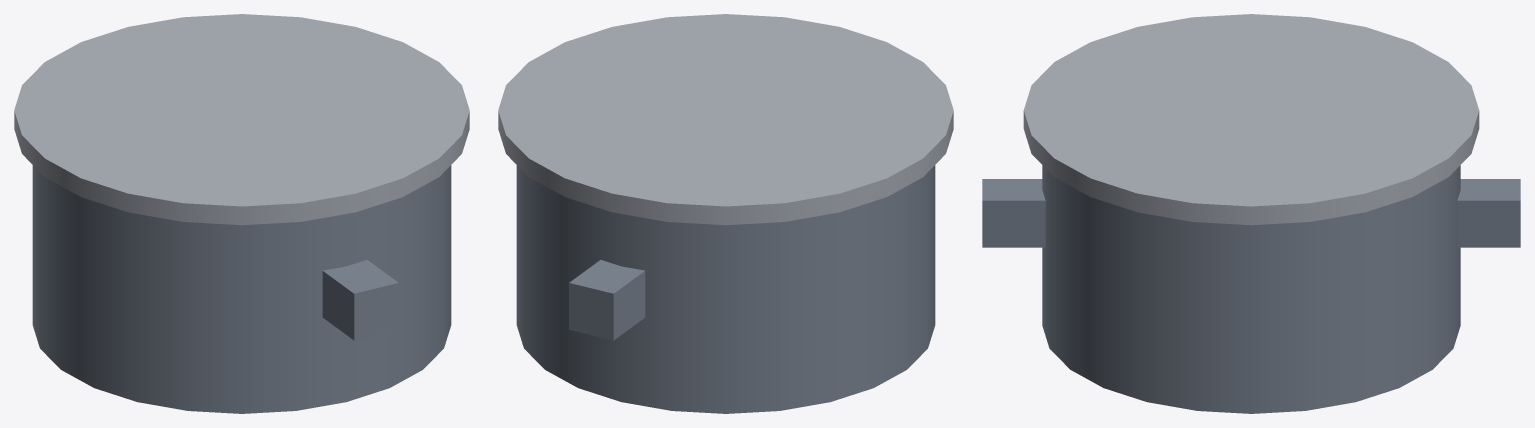
The model's file is hat_pot.glb.
The picture shows the model from 3 angles, left to right: view 1: azimuth 30°, elevation 25°; view 2: azimuth 150°, elevation 25°; view 3: azimuth 270°, elevation 25°; orthographic projection.
Visible parts, largest first — view 1: hat_pot; view 2: hat_pot; view 3: hat_pot.
Boxes of the visible parts, x1=… form: hat_pot: x1=14, y1=14, x2=469, y2=413; hat_pot: x1=498, y1=14, x2=953, y2=413; hat_pot: x1=982, y1=14, x2=1520, y2=413.
Bounding box in the file's own units: 0.441 × 0.23 × 0.521.
